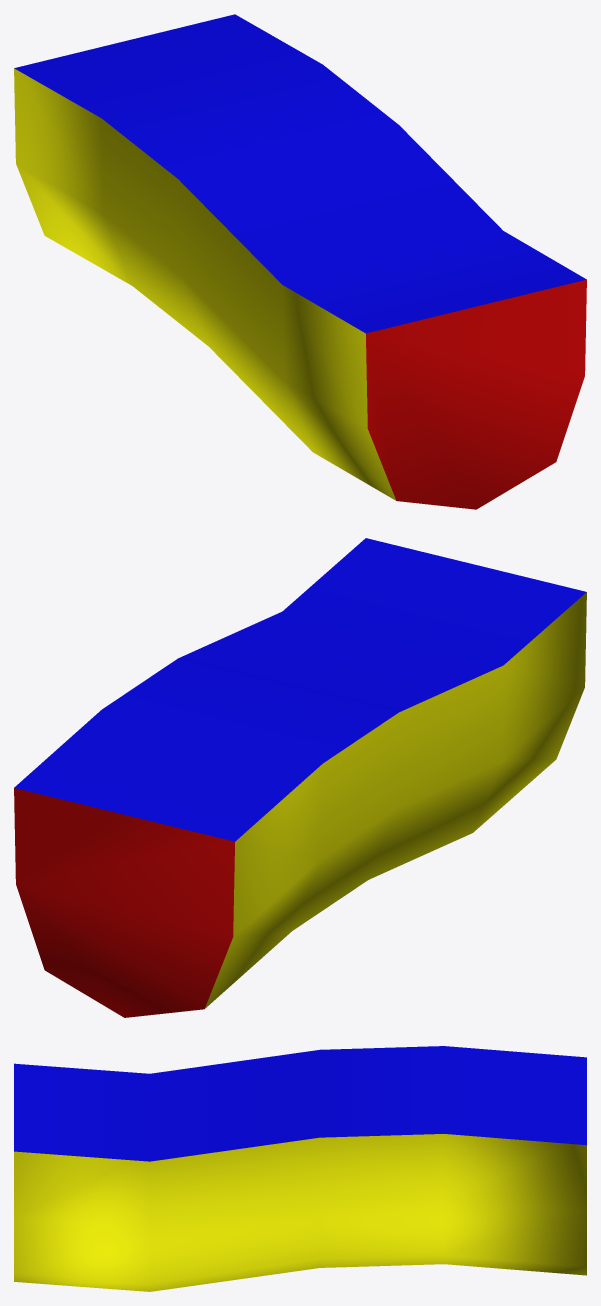
The picture shows the model from 3 angles, top to bottom: view 1: azimuth 30°, elevation 25°; view 2: azimuth 150°, elevation 25°; view 3: azimuth 270°, elevation 25°; orthographic projection. The views are drawn at different scales.
Parts seen in each view (by area): view 1: polySurface138; view 2: polySurface138; view 3: polySurface138.
Boxes of the visible parts, <box> form: polySurface138: <box>14,14,586,509</box>; polySurface138: <box>14,538,586,1017</box>; polySurface138: <box>14,1046,586,1291</box>.
Size of the model in its own units: 23.58 by 24.18 by 64.99.
